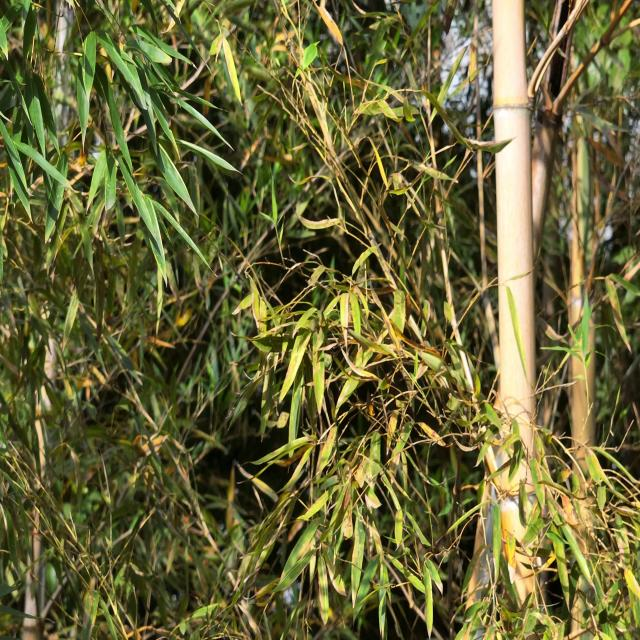Bamboo-shoots: (492, 0, 538, 640)
